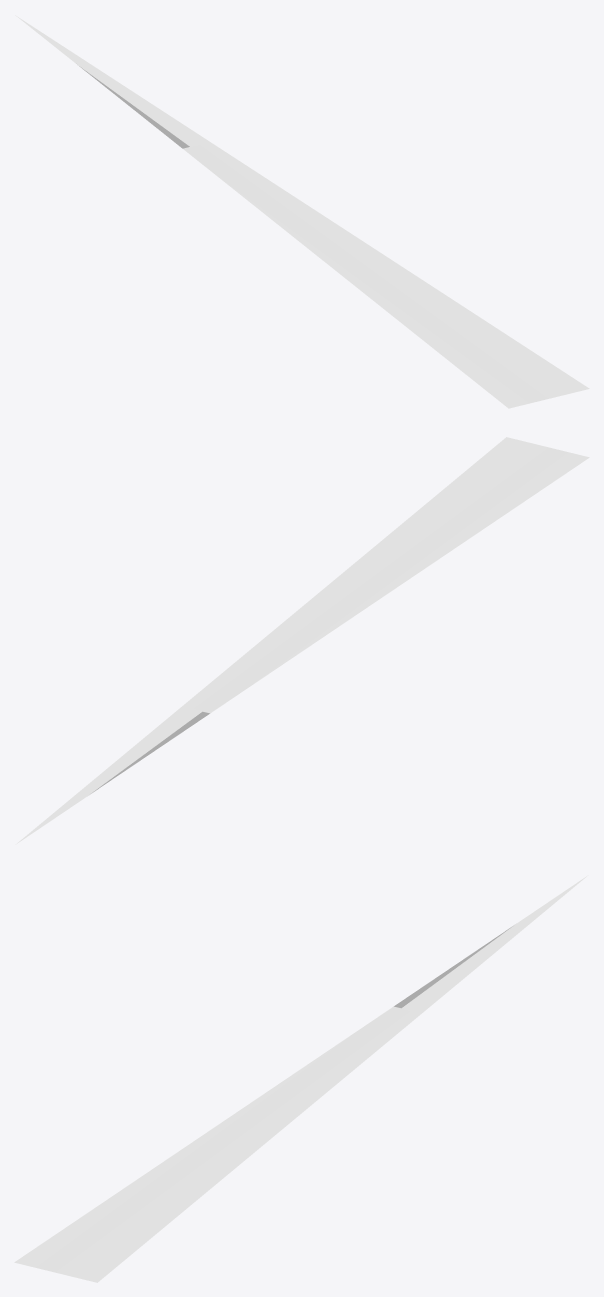
The model's file is mp-0420-geode.glb.
3 views of the same model, one above another, from view 1: azimuth 30°, elevation 25°; view 2: azimuth 150°, elevation 25°; view 3: azimuth 330°, elevation 25° (orthographic). The views are drawn at different scales.
Visible parts, largest first — view 1: Node; view 2: Node; view 3: Node.
Boxes of the visible parts, x1,y1,x2,y2 form: Node: (15,15,589,408); Node: (15,437,589,844); Node: (14,875,588,1282).
Size of the model in its own units: 0.0698 by 0 by 0.7846.
Materials: 1 (1 with a texture image).
